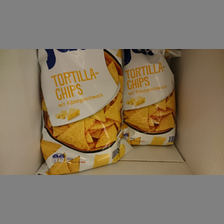chips: (37, 50, 124, 175), (122, 49, 181, 147)
